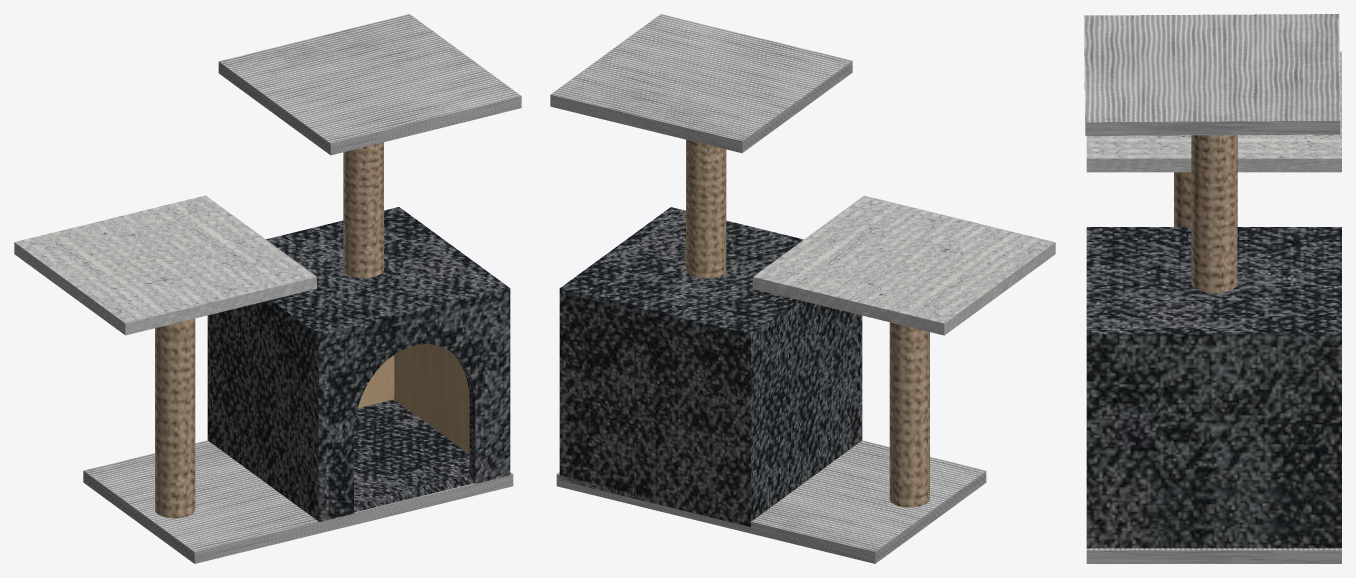
Rendered from CatHouse1.fbx.
The picture shows the model from 3 angles, left to right: view 1: azimuth 30°, elevation 25°; view 2: azimuth 150°, elevation 25°; view 3: azimuth 270°, elevation 25°; orthographic projection. The views are drawn at different scales.
Parts seen in each view (by area): view 1: pCube7, pCube3, pCube2, pasted__pCube2, pCylinder1, pCube12, pCylinder3; view 2: pCube7, pCube2, pCube3, pasted__pCube2, pCylinder1, pCylinder3; view 3: pCube7, pCube3, pCube2, pCylinder3, pasted__pCube2, pCylinder1.
Part boxes in pixels (x1=…): pCube7: x1=207, y1=207, x2=510, y2=521; pCube3: x1=218, y1=14, x2=521, y2=155; pCube2: x1=14, y1=195, x2=316, y2=335; pasted__pCube2: x1=83, y1=440, x2=513, y2=563; pCylinder1: x1=155, y1=318, x2=195, y2=518; pCube12: x1=358, y1=344, x2=469, y2=454; pCylinder3: x1=343, y1=142, x2=383, y2=278; pCube7: x1=559, y1=207, x2=862, y2=526; pCube2: x1=753, y1=195, x2=1055, y2=335; pCube3: x1=550, y1=14, x2=852, y2=153; pasted__pCube2: x1=556, y1=440, x2=986, y2=563; pCylinder1: x1=889, y1=322, x2=929, y2=507; pCylinder3: x1=686, y1=139, x2=726, y2=278; pCube7: x1=1086, y1=227, x2=1341, y2=548; pCube3: x1=1084, y1=14, x2=1340, y2=135; pCube2: x1=1086, y1=51, x2=1341, y2=172; pCylinder3: x1=1191, y1=135, x2=1237, y2=292; pasted__pCube2: x1=1086, y1=548, x2=1341, y2=563; pCylinder1: x1=1174, y1=172, x2=1191, y2=226.
Bounding box in the file's own units: 8.14 × 7.66 × 4.
Materials: 6 (6 with a texture image).
